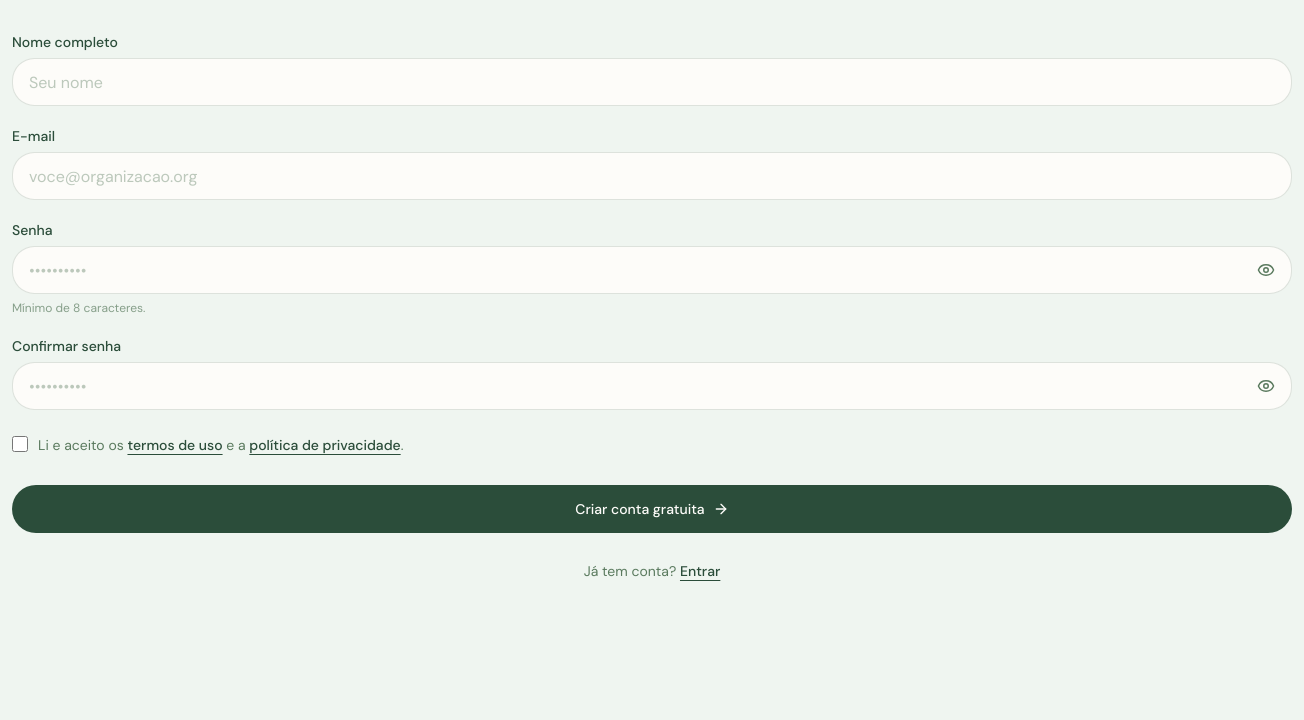
it: RegisterForm › mostra erro de e-mail duplicado retornado pelo backend
Type "Maria Silva" into the field labelled "Nome completo".
click(652, 82); type("Maria Silva")  # box left=12, top=58, right=1292, bottom=106
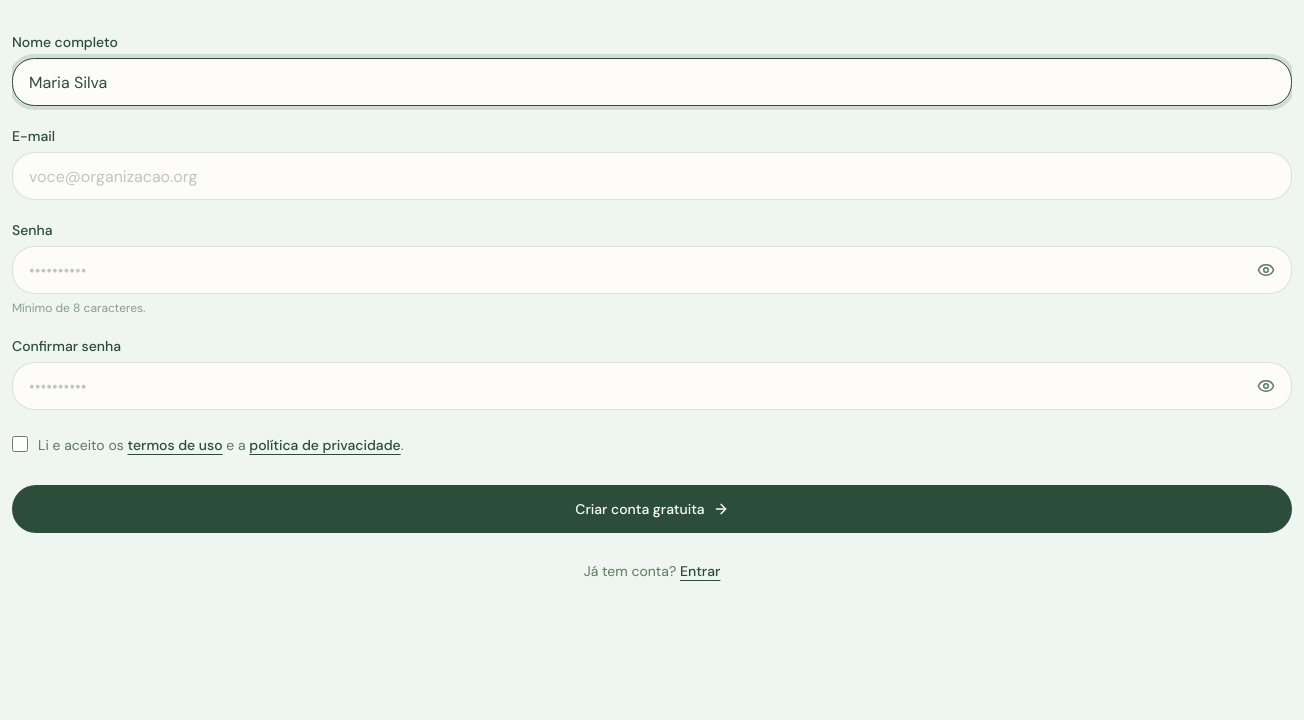
Type "maria@org.com" into the field labelled "E-mail".
click(652, 176); type("maria@org.com")  # box left=12, top=152, right=1292, bottom=200
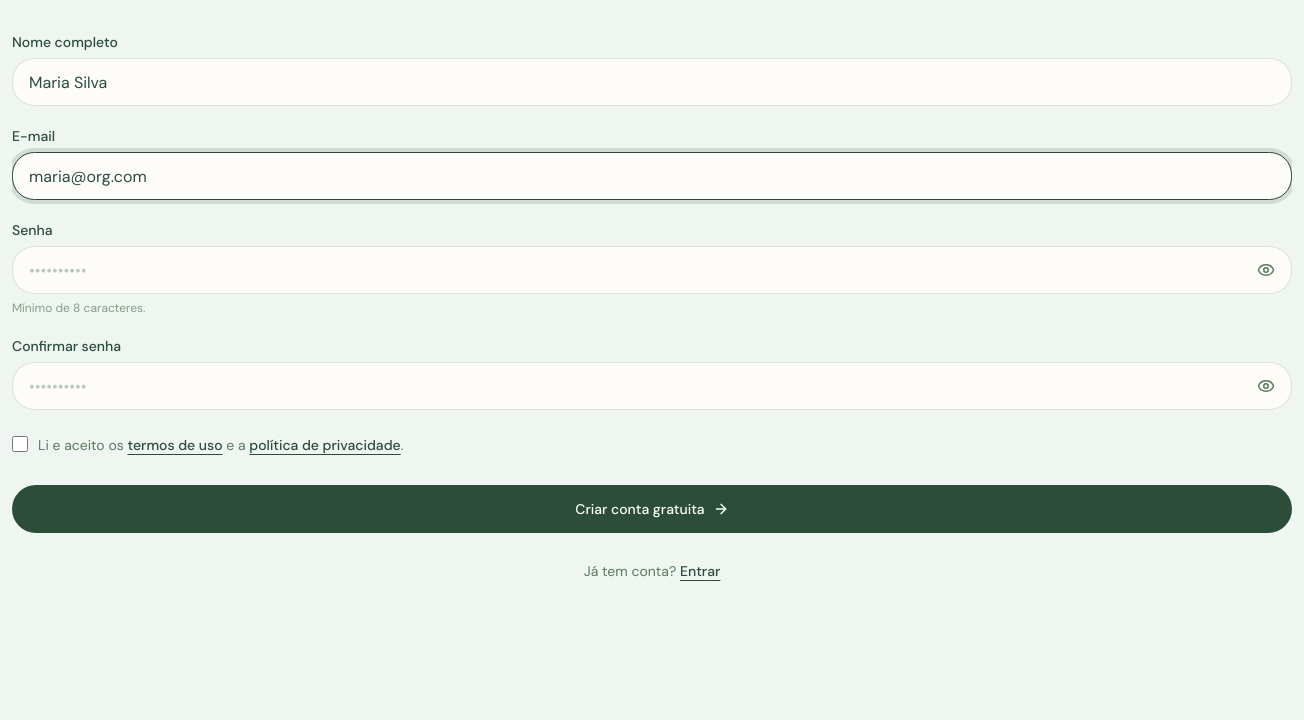
Type "senha12345" into the password field labelled "Senha".
click(652, 270); type("senha12345")  # box left=12, top=246, right=1292, bottom=294
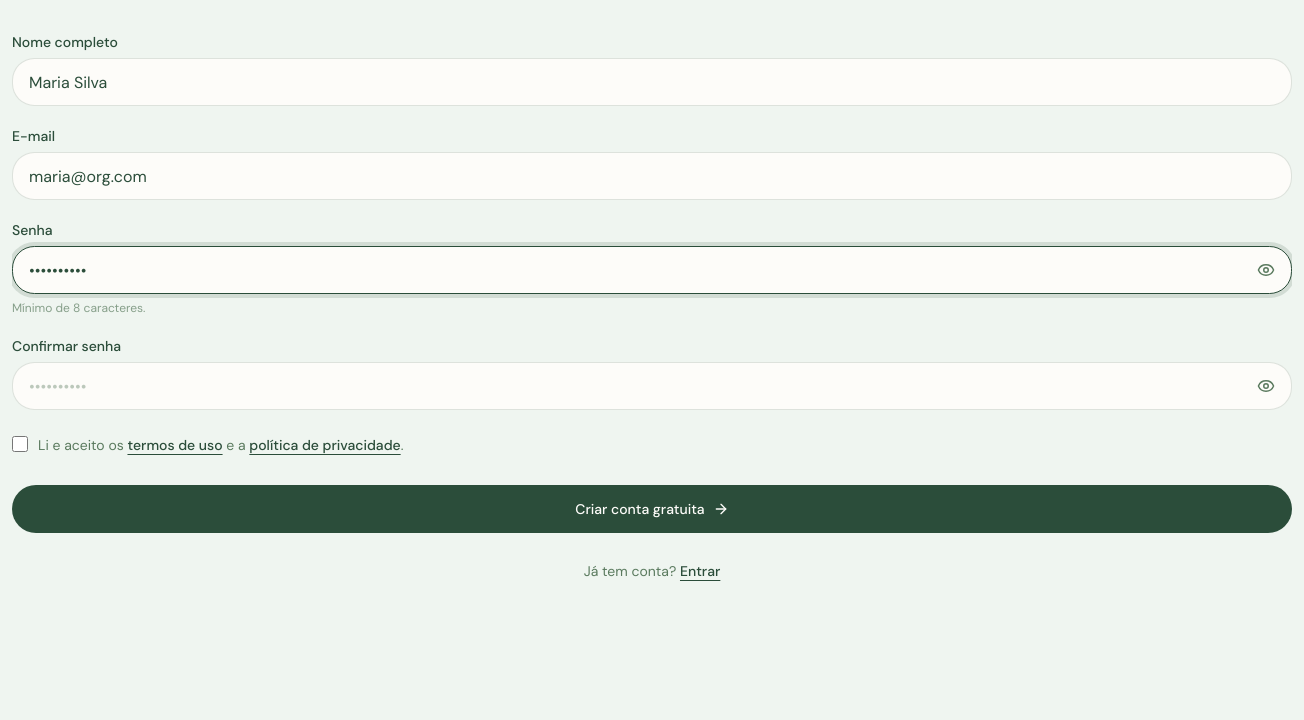
Type "senha12345" into the password field labelled "Confirmar senha".
click(652, 386); type("senha12345")  # box left=12, top=362, right=1292, bottom=410
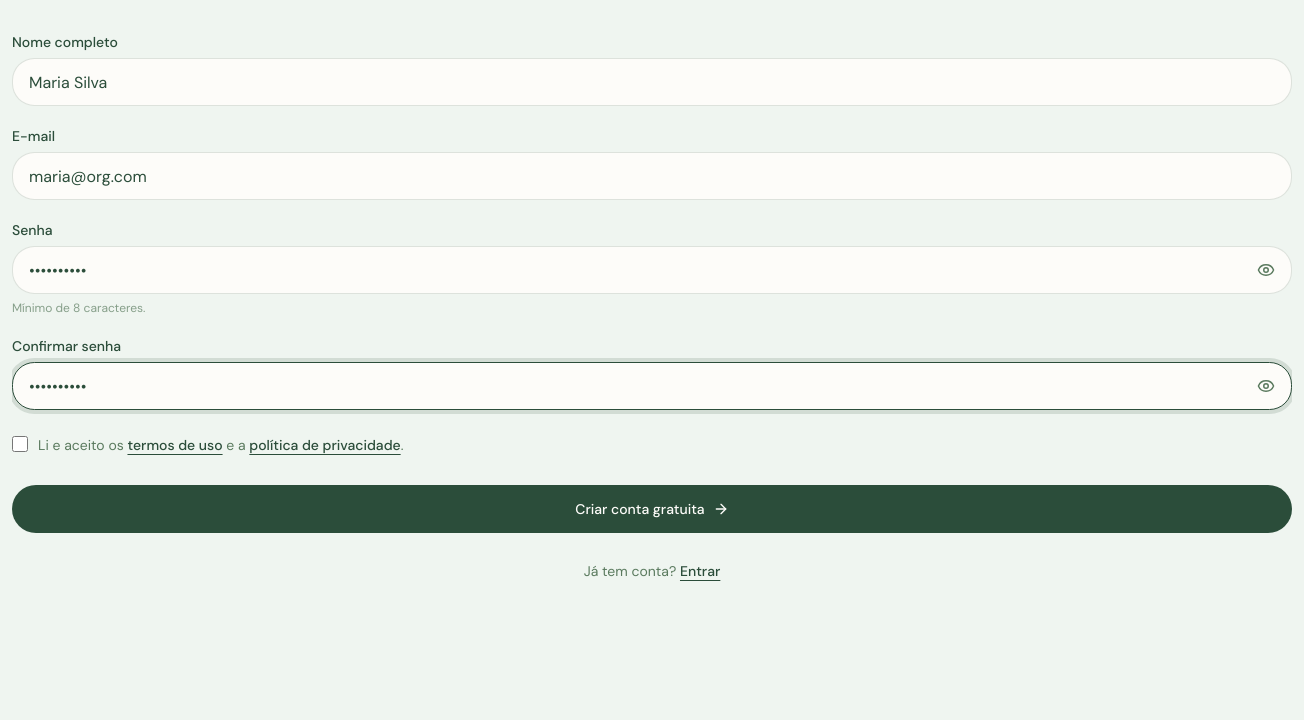
Click the checkbox labelled "Li e aceito os termos de uso e a política de privacidade .".
click(20, 444)  # box left=12, top=436, right=28, bottom=452
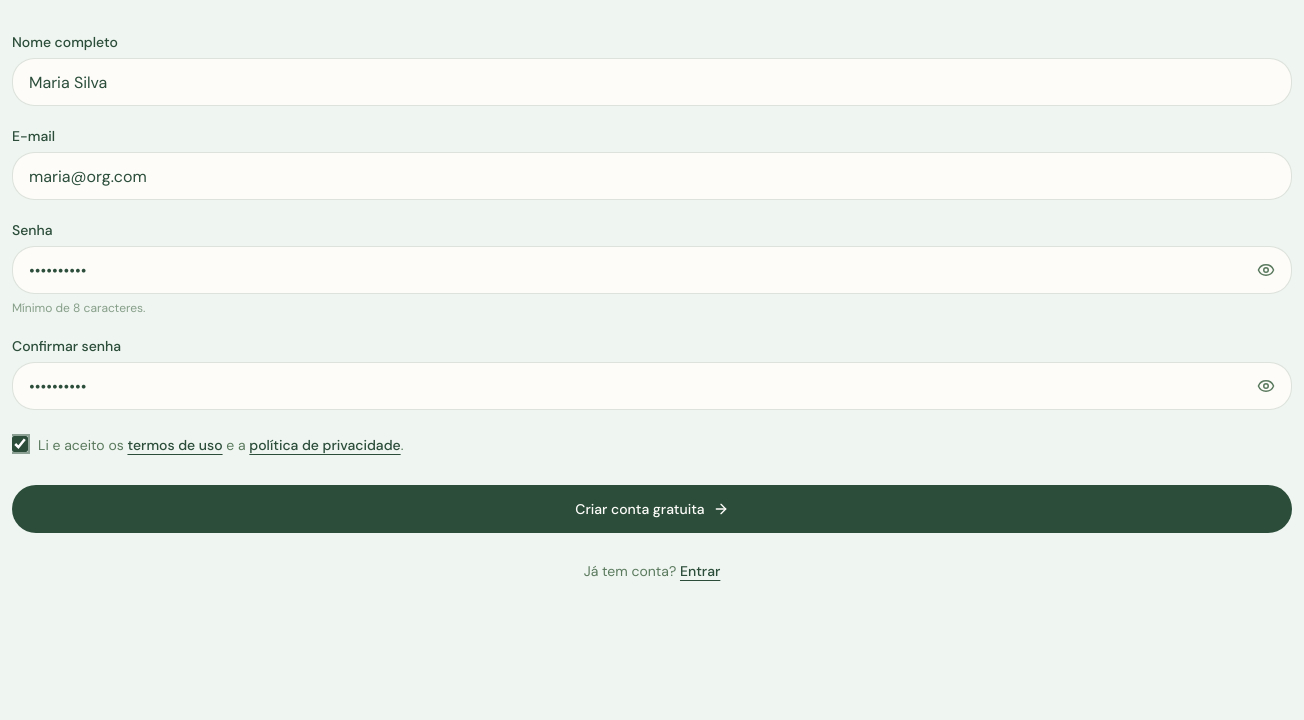
Click the button "Criar conta gratuita".
click(652, 509)  # box left=12, top=485, right=1292, bottom=533
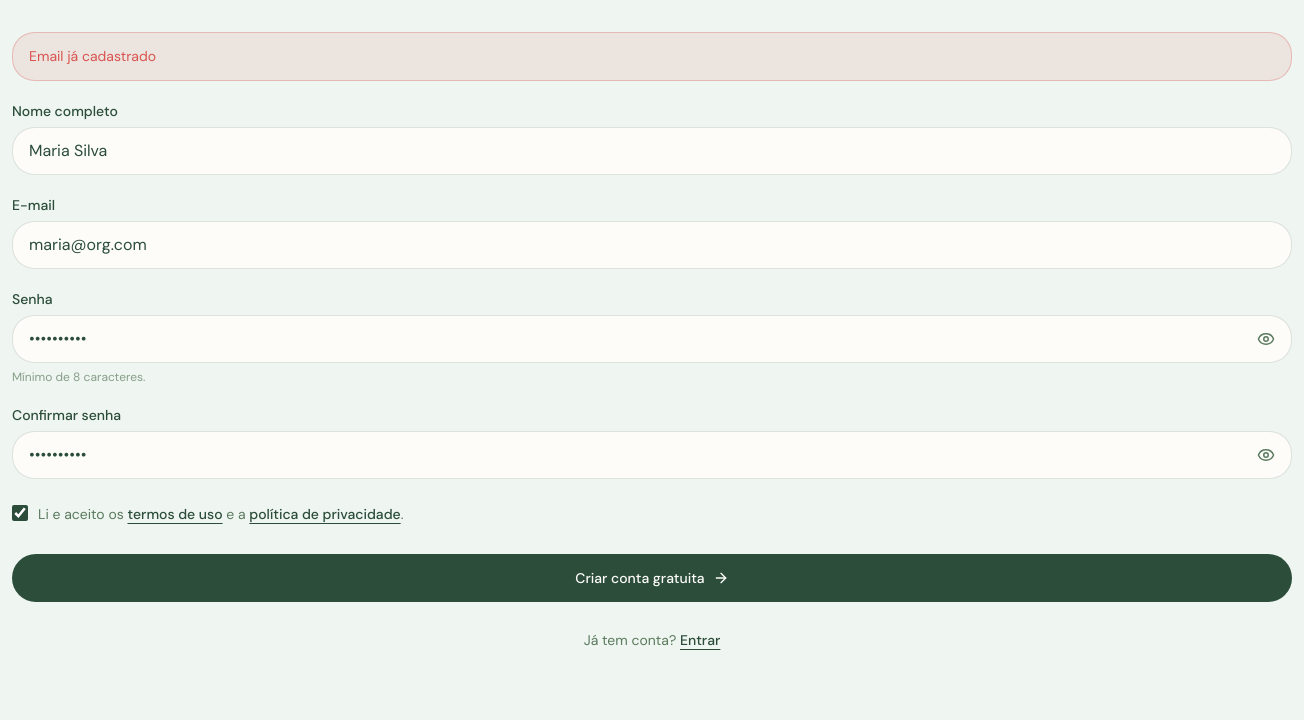
Result: the message reads "Email já cadastrado" at left=29, top=47, right=156, bottom=65
